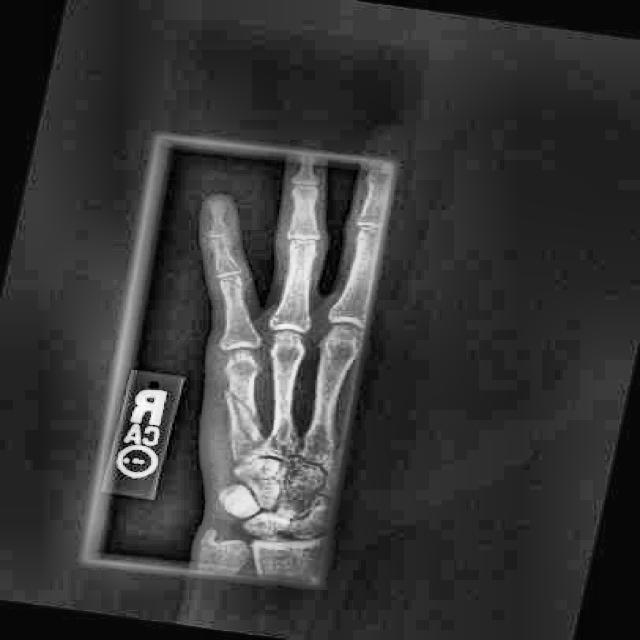fingers positive: (212, 369, 270, 456)
